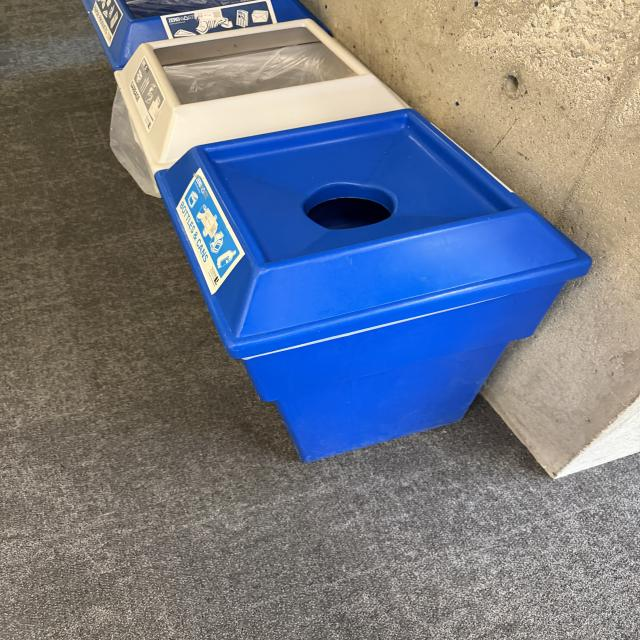Dustbin: (89, 0, 593, 463)
